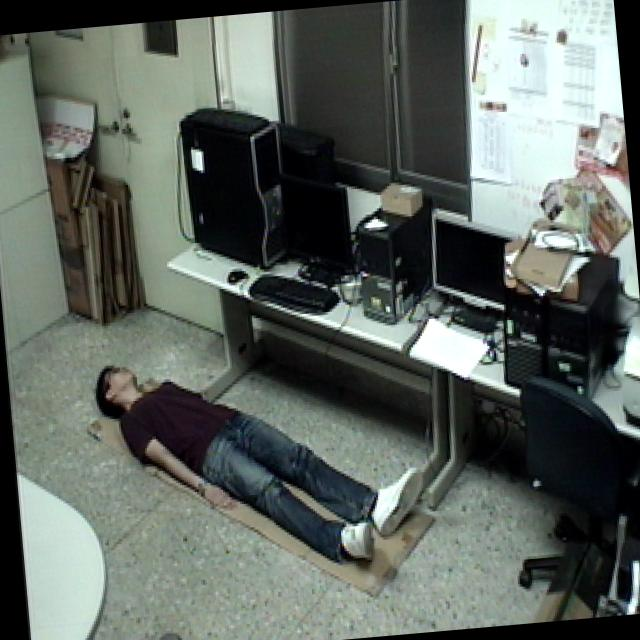lie: (84, 324, 438, 589)
